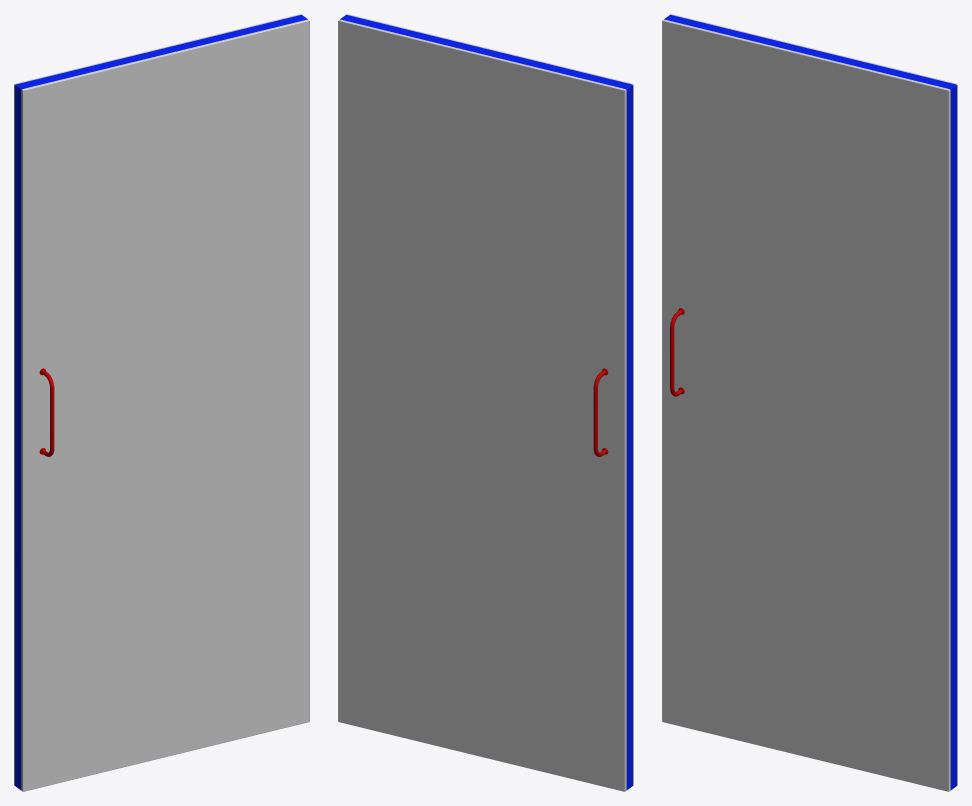
The model's file is Door01b.fbx.
3 renders of one model, left to right at view 1: azimuth 30°, elevation 25°; view 2: azimuth 150°, elevation 25°; view 3: azimuth 330°, elevation 25°, orthographic.
Visible parts, largest first — view 1: Door01b; view 2: Door01b; view 3: Door01b.
Part boxes in pixels (x1,y1,x2,y2): Door01b: (14,14,309,791); Door01b: (338,14,633,791); Door01b: (662,14,957,791).
Bounding box in the file's own units: 90 × 210 × 16.4.
